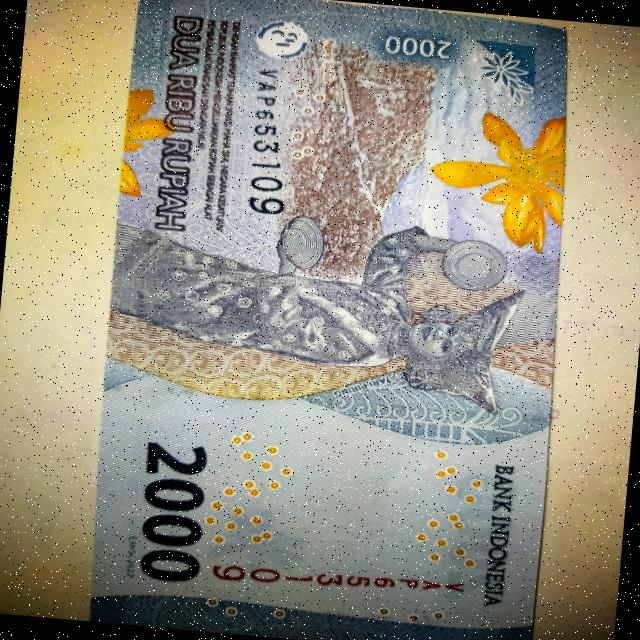2K: (77, 0, 604, 640)
